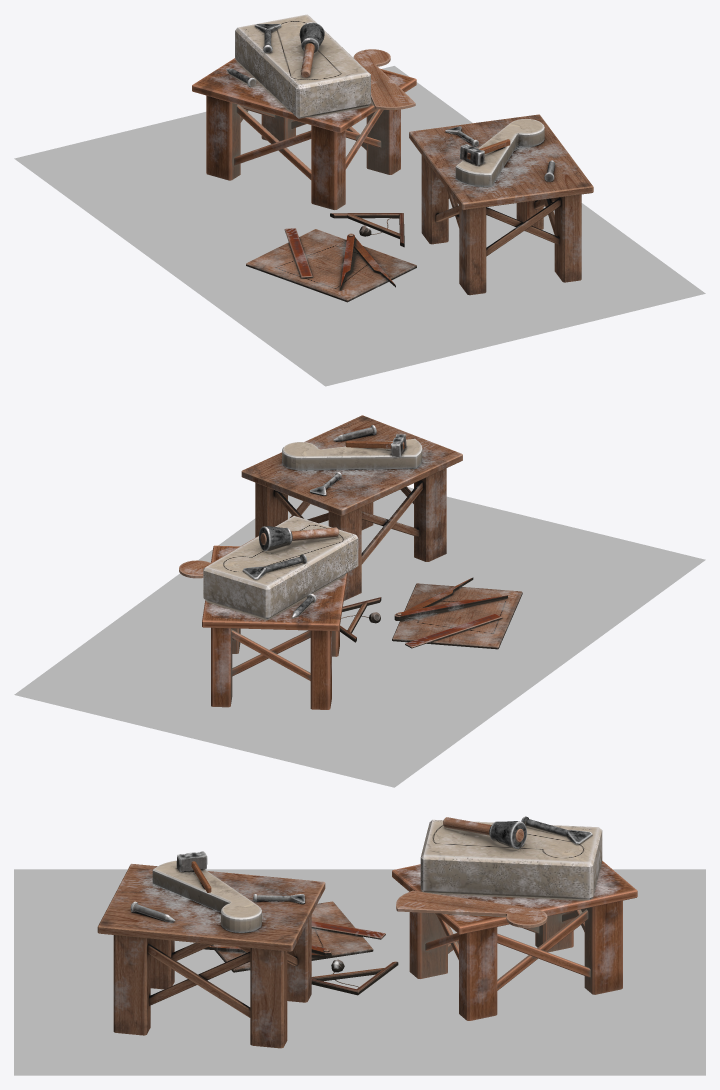
The picture shows the model from 3 angles, top to bottom: view 1: azimuth 30°, elevation 25°; view 2: azimuth 150°, elevation 25°; view 3: azimuth 270°, elevation 25°; orthographic projection. The views are drawn at different scales.
Visible parts, largest first — view 1: floor, Bench (×2), drafting; view 2: floor, Bench (×2), drafting; view 3: floor, Bench (×2), drafting.
Boxes of the visible parts, bbox=[...] form: floor: bbox=[14, 66, 705, 386]; Bench (×2): bbox=[192, 14, 593, 295]; drafting: bbox=[246, 213, 416, 302]; floor: bbox=[14, 487, 705, 787]; Bench (×2): bbox=[179, 415, 462, 709]; drafting: bbox=[340, 577, 522, 649]; floor: bbox=[14, 869, 705, 1075]; Bench (×2): bbox=[97, 816, 637, 1048]; drafting: bbox=[204, 901, 398, 995].
Size of the model in its own units: 0.9511 by 0.3538 by 1.35.
